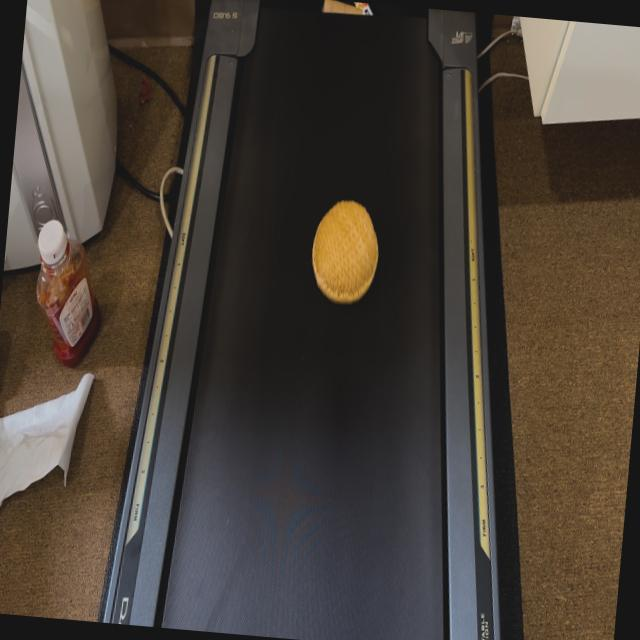Trash: (307, 198, 383, 305)
